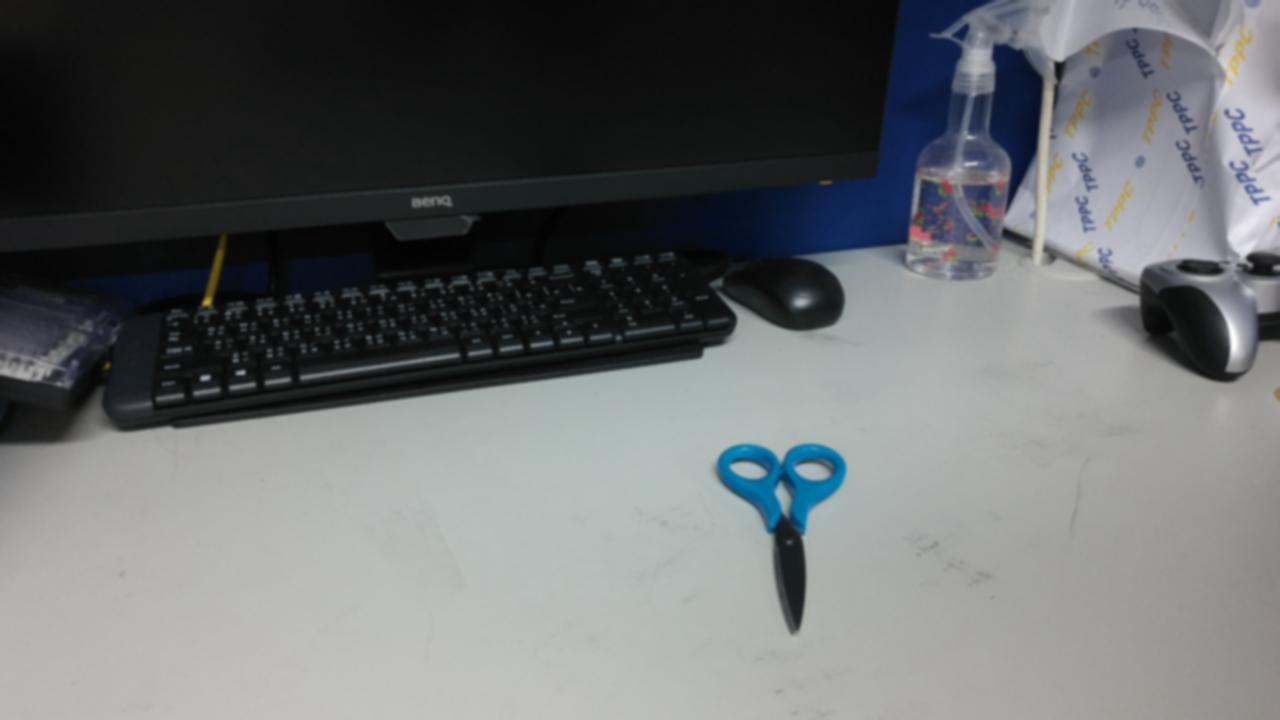long: (778, 476, 952, 661)
